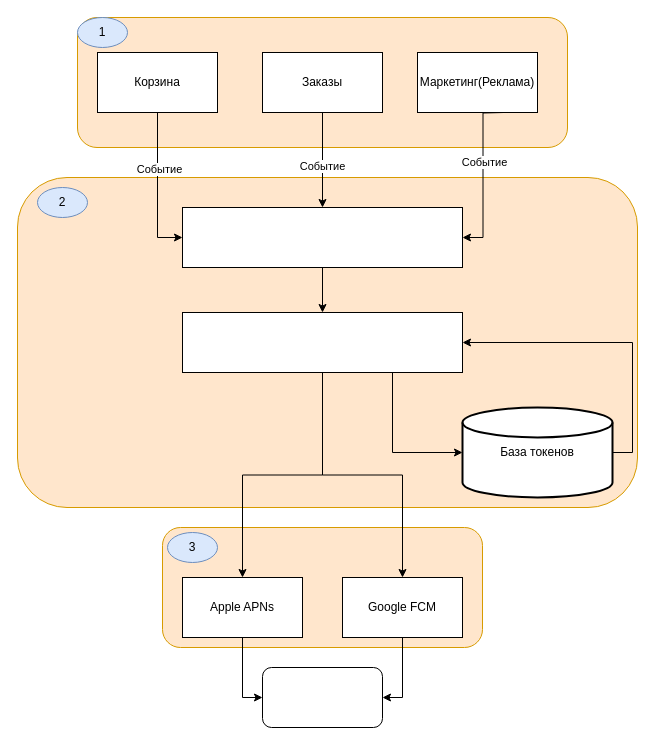
Image size: 658x745. Some labels were removed from this diagram. Here are the shapes that lost their labels. From the top down, the box of each, then its label:
(182, 206, 462, 268): Очередь задач
(182, 312, 462, 372): Сервис отправки
(262, 666, 382, 728): Телефон пользователя
